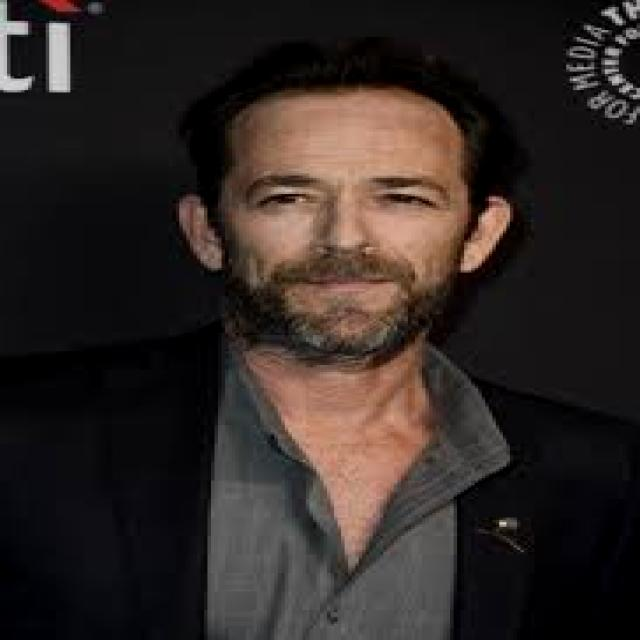normal_face: (61, 57, 619, 399)
